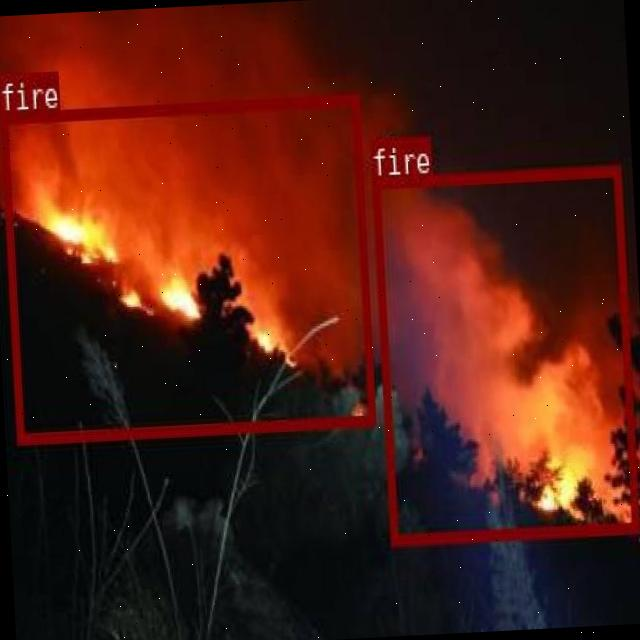fire: (0, 93, 373, 443), (370, 165, 638, 544)
